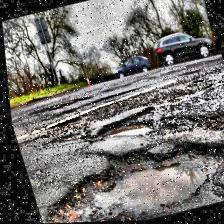pothole: (26, 127, 224, 223), (86, 108, 156, 152), (222, 108, 224, 148)
